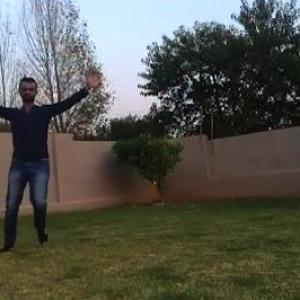takeoff: (1, 74, 114, 245)
